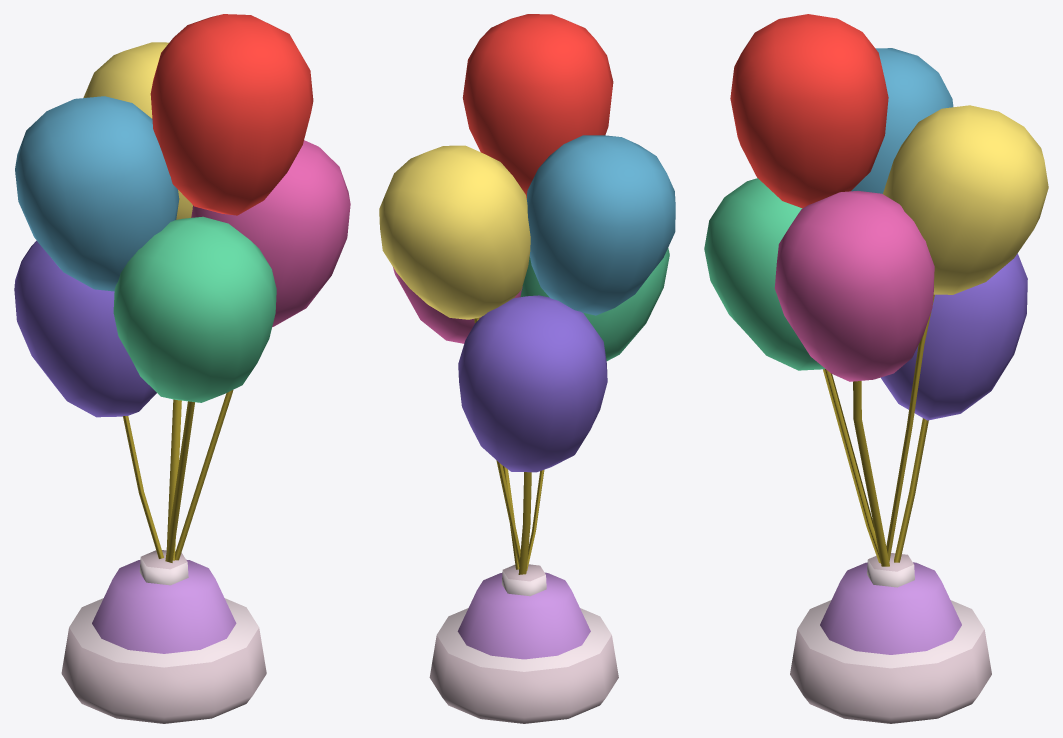
File: Final_ballons.fbx
3 renders of one model, left to right at view 1: azimuth 30°, elevation 25°; view 2: azimuth 150°, elevation 25°; view 3: azimuth 270°, elevation 25°, orthographic. The views are drawn at different scales.
Parts seen in each view (by area): view 1: balloons; view 2: balloons; view 3: balloons.
Boxes of the visible parts, <box> form: balloons: <box>14,14,350,723</box>; balloons: <box>379,14,675,723</box>; balloons: <box>704,14,1048,723</box>.
Bounding box in the file's own units: 80.57 × 173 × 79.94.
